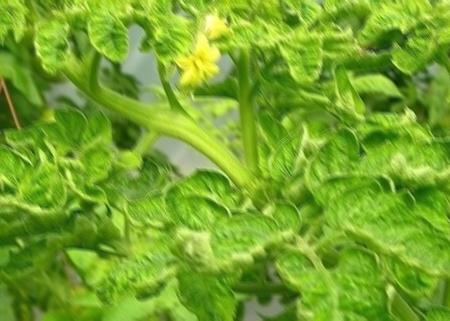Tomato leaf yellow virus: (133, 168, 302, 273), (303, 122, 450, 216), (206, 16, 353, 106), (333, 183, 450, 290), (285, 242, 403, 321), (167, 255, 254, 321), (351, 0, 443, 57), (1, 145, 70, 217), (120, 0, 195, 66), (257, 129, 321, 184), (26, 11, 74, 84), (81, 13, 135, 74)
